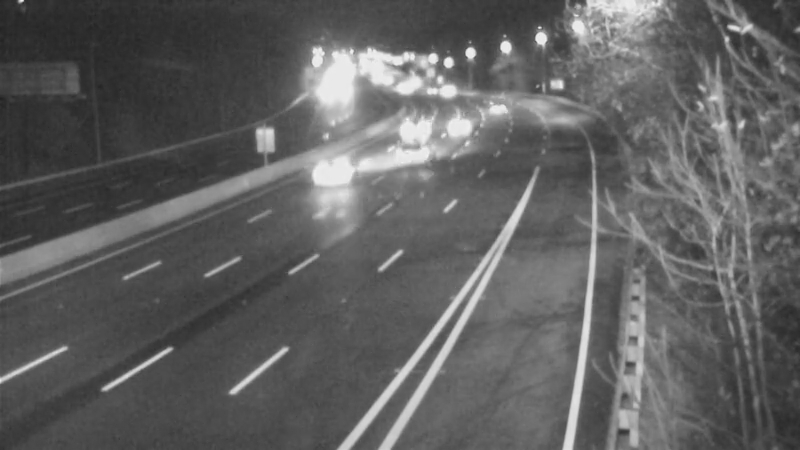vehicle: (296, 133, 376, 213), (426, 66, 476, 116), (472, 83, 522, 133), (436, 102, 486, 152), (383, 100, 433, 150), (393, 125, 443, 175)
